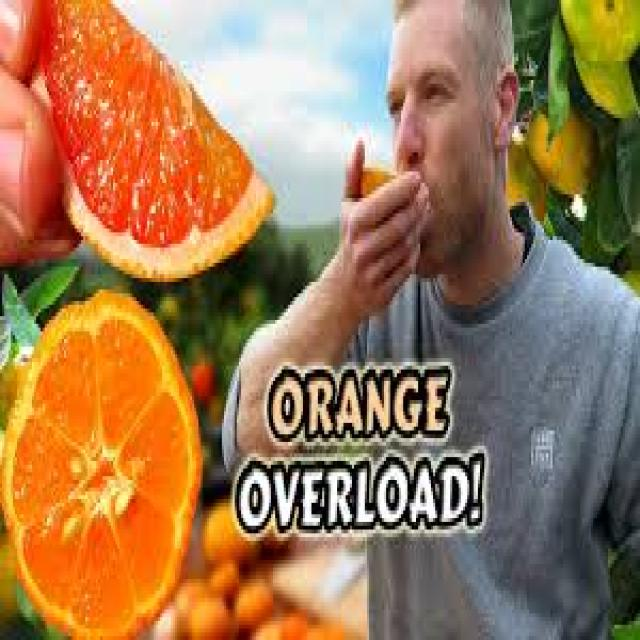orange: (1, 302, 207, 640)
